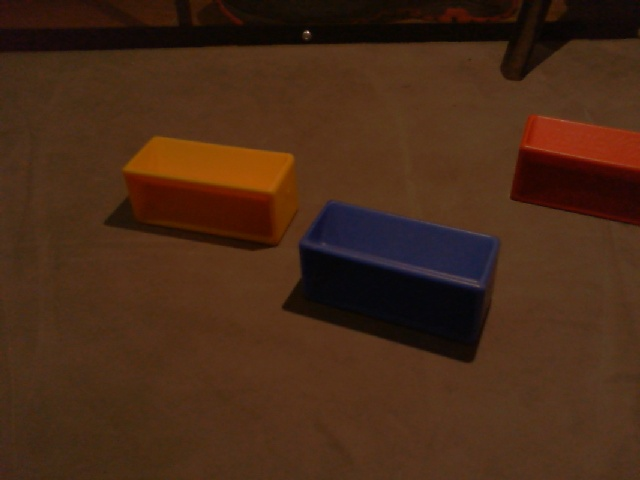BlueSample: (298, 198, 502, 347)
RedSample: (509, 117, 640, 223)
YellowSample: (117, 133, 300, 252)
